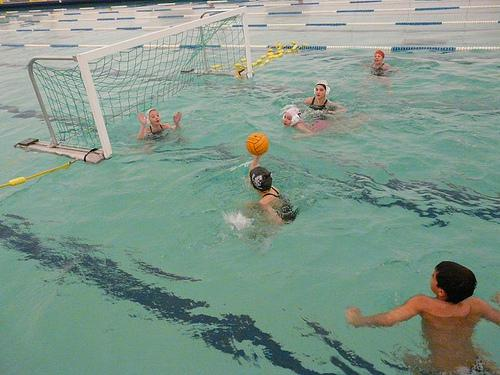swimmer: (343, 253, 500, 374), (238, 153, 295, 229), (136, 108, 186, 143), (279, 102, 325, 138), (306, 80, 339, 110), (366, 48, 396, 80)
